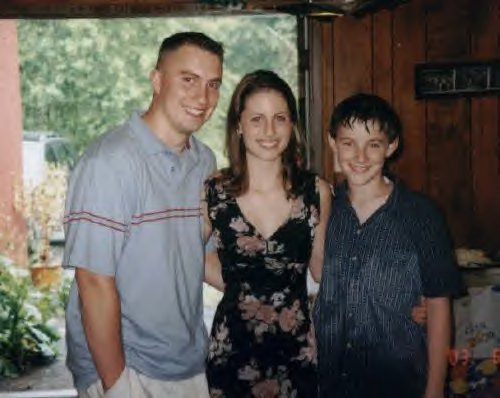without_mask: (147, 47, 221, 131), (325, 114, 401, 183), (235, 91, 295, 165)
